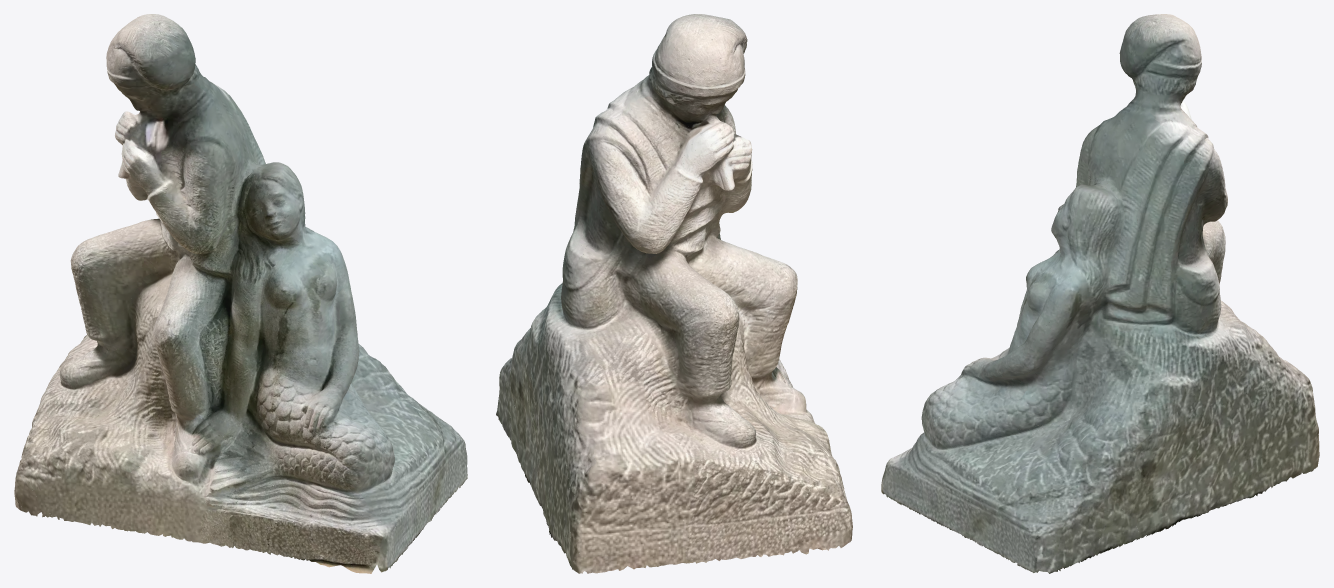
File: preview.glb
The picture shows the model from 3 angles, left to right: view 1: azimuth 30°, elevation 25°; view 2: azimuth 150°, elevation 25°; view 3: azimuth 270°, elevation 25°; orthographic projection. The views are drawn at different scales.
Visible parts, largest first — view 1: Object_2, Object_3; view 2: Object_2, Object_3; view 3: Object_2, Object_3.
Boxes of the visible parts, <box> form: Object_2: <box>14,14,467,573</box>; Object_3: <box>14,29,402,572</box>; Object_2: <box>496,14,852,573</box>; Object_3: <box>506,23,852,573</box>; Object_2: <box>881,14,1319,573</box>; Object_3: <box>881,31,1319,562</box>.
Size of the model in its own units: 3.07 by 3.54 by 3.19.
Materials: 2 (2 with a texture image).
